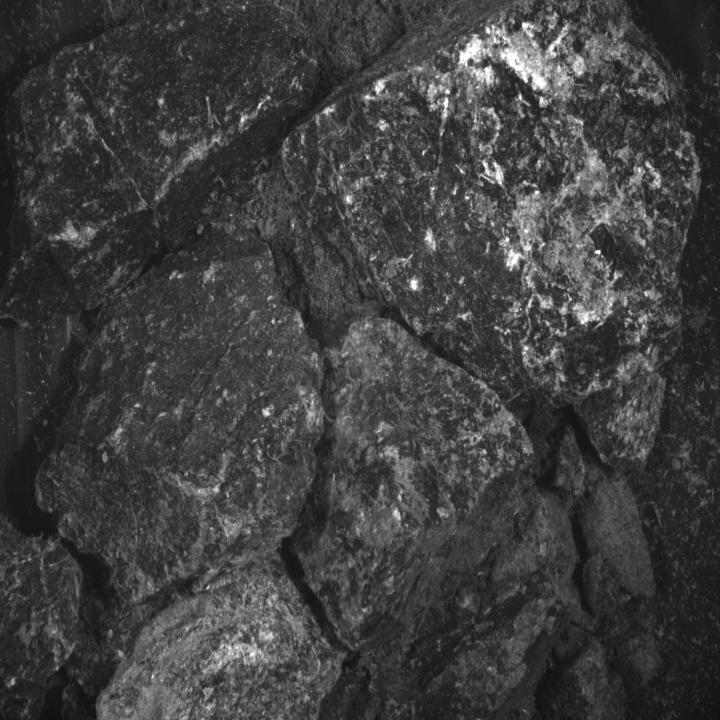stone: (290, 0, 703, 407), (294, 315, 573, 717), (36, 222, 322, 604), (0, 0, 316, 329), (95, 550, 346, 720), (0, 512, 83, 720), (573, 372, 664, 472), (545, 640, 624, 720)
